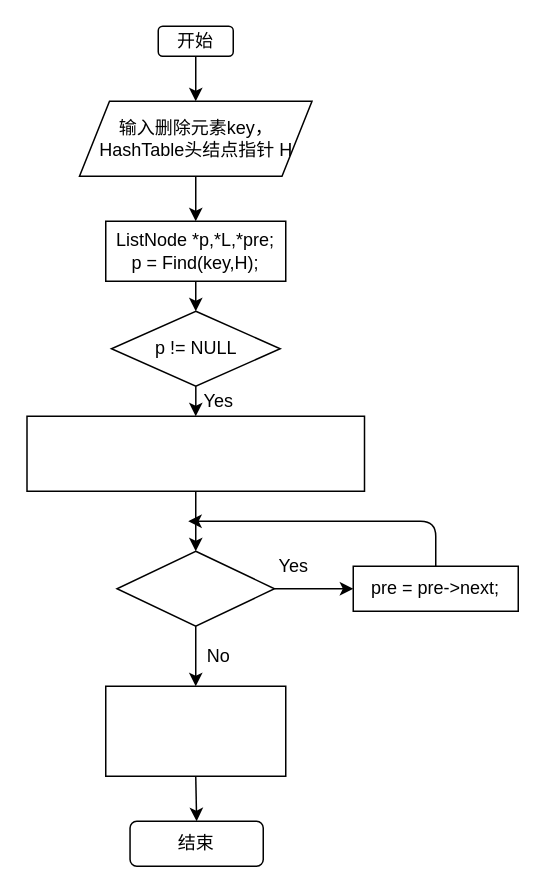
The diagram is 545 pixels wide and 893 high, and some of its shapes have lost their labels. Each missing label, with the centre of its shape:
"L = H->theList[Hash(key,H->tableSize)]; pre = L;" goes at pixel 195 453.
"pre->next != p" goes at pixel 195 588.
"pre->next = p->next; free(p); p = NULL;" goes at pixel 195 730.
